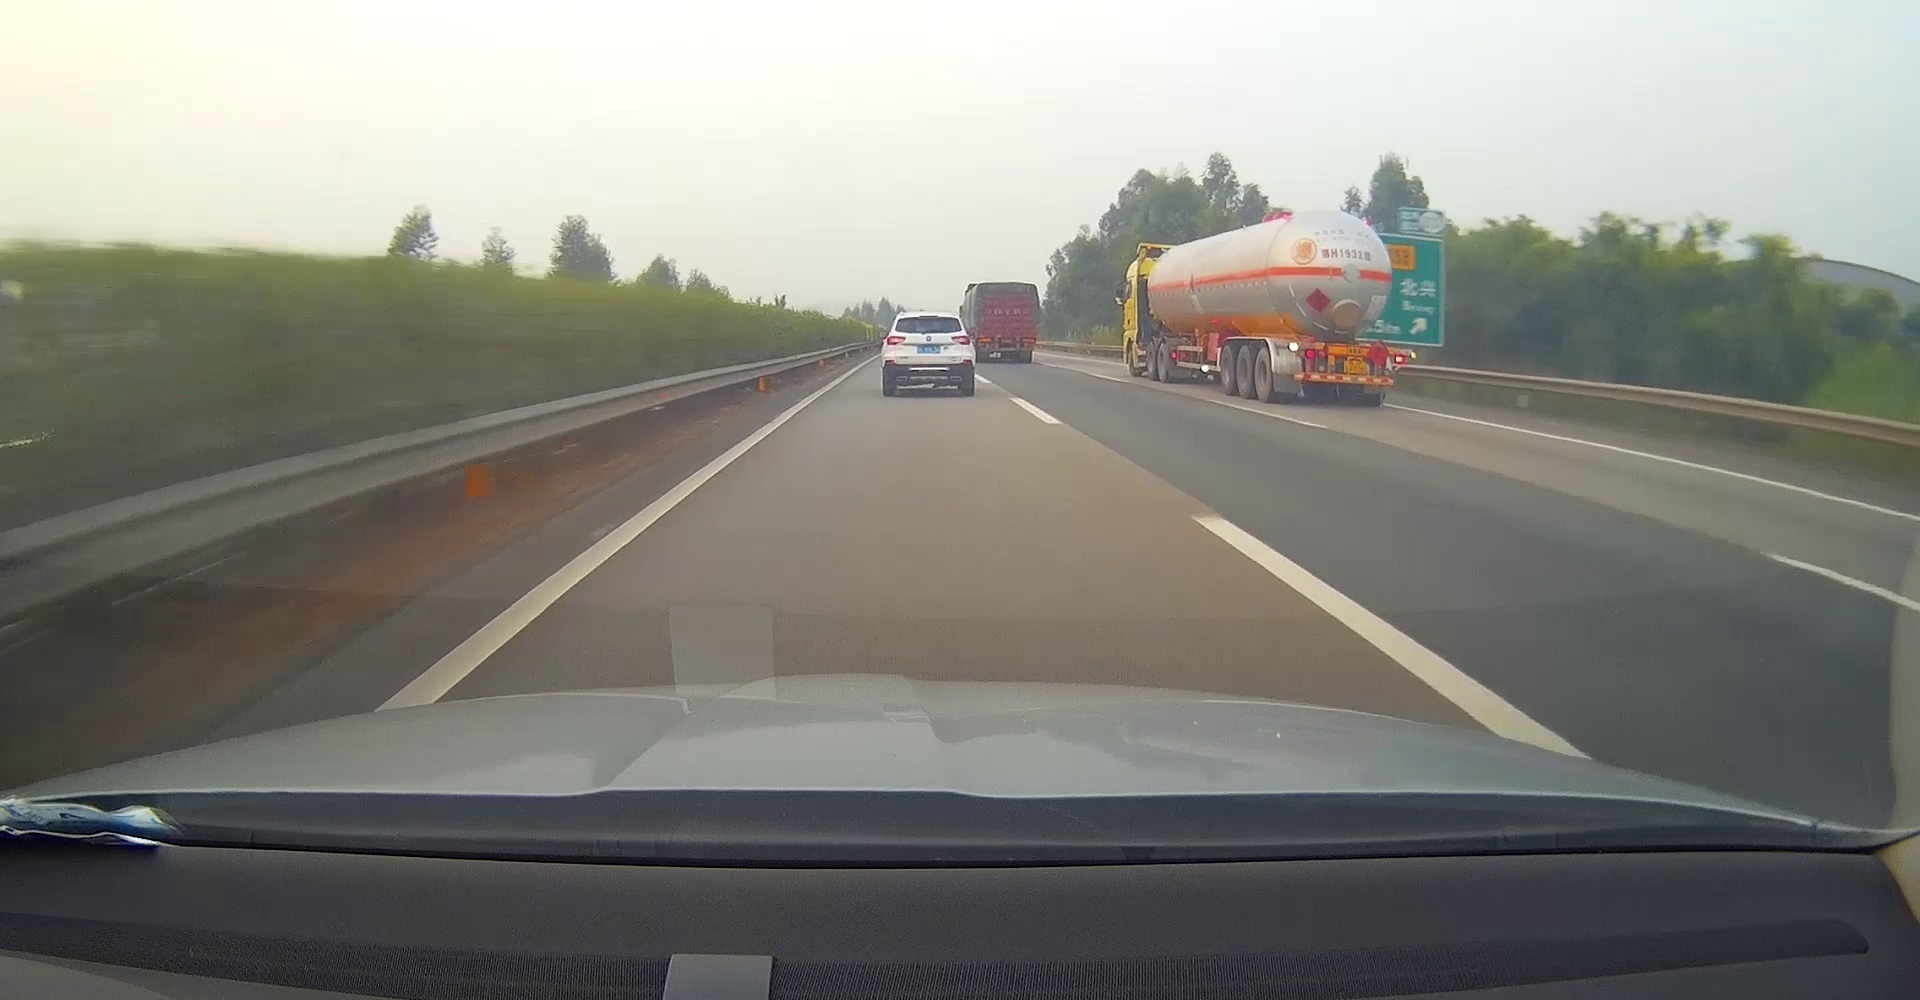L_light: (1300, 348, 1319, 359), (888, 336, 905, 345), (980, 341, 992, 346)
R_light: (952, 336, 971, 345), (1390, 355, 1407, 363), (1023, 341, 1034, 346)
T_light: (1349, 346, 1363, 354), (919, 315, 938, 319), (1002, 286, 1013, 291)
day-brake: (1269, 338, 1416, 406)
day-no: (881, 311, 975, 396), (975, 282, 1037, 363)
